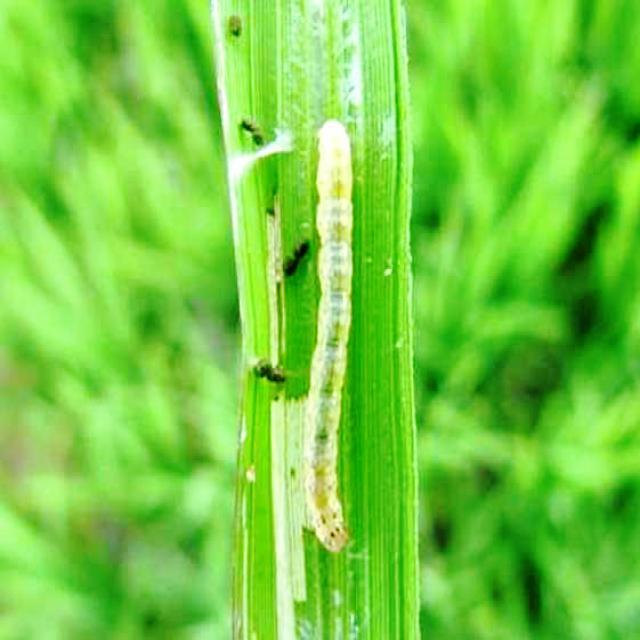leaf-folder: (263, 112, 386, 581)
